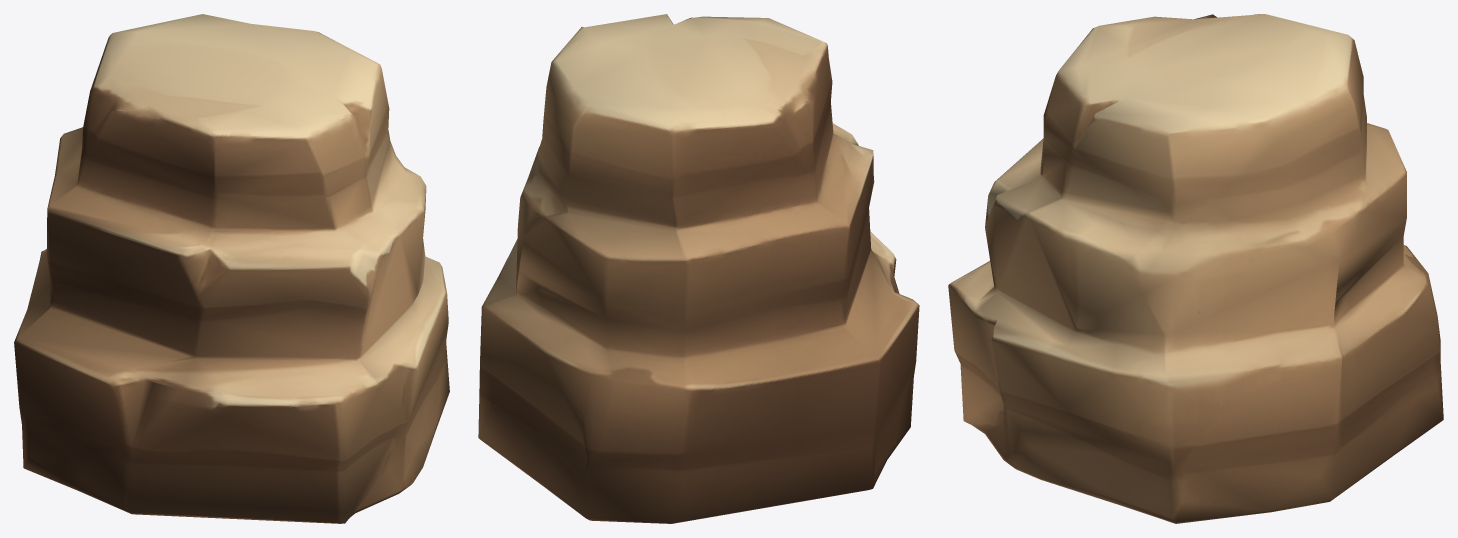
The picture shows the model from 3 angles, left to right: view 1: azimuth 30°, elevation 25°; view 2: azimuth 150°, elevation 25°; view 3: azimuth 270°, elevation 25°; orthographic projection.
Parts seen in each view (by area): view 1: desert-rock-1; view 2: desert-rock-1; view 3: desert-rock-1.
Boxes of the visible parts, x1,y1,x2,y2 form: desert-rock-1: (14, 14, 449, 523); desert-rock-1: (478, 14, 919, 523); desert-rock-1: (948, 14, 1443, 523).
Bounding box in the file's own units: 0.311 × 0.274 × 0.3295.
1 material, 1 textured.
